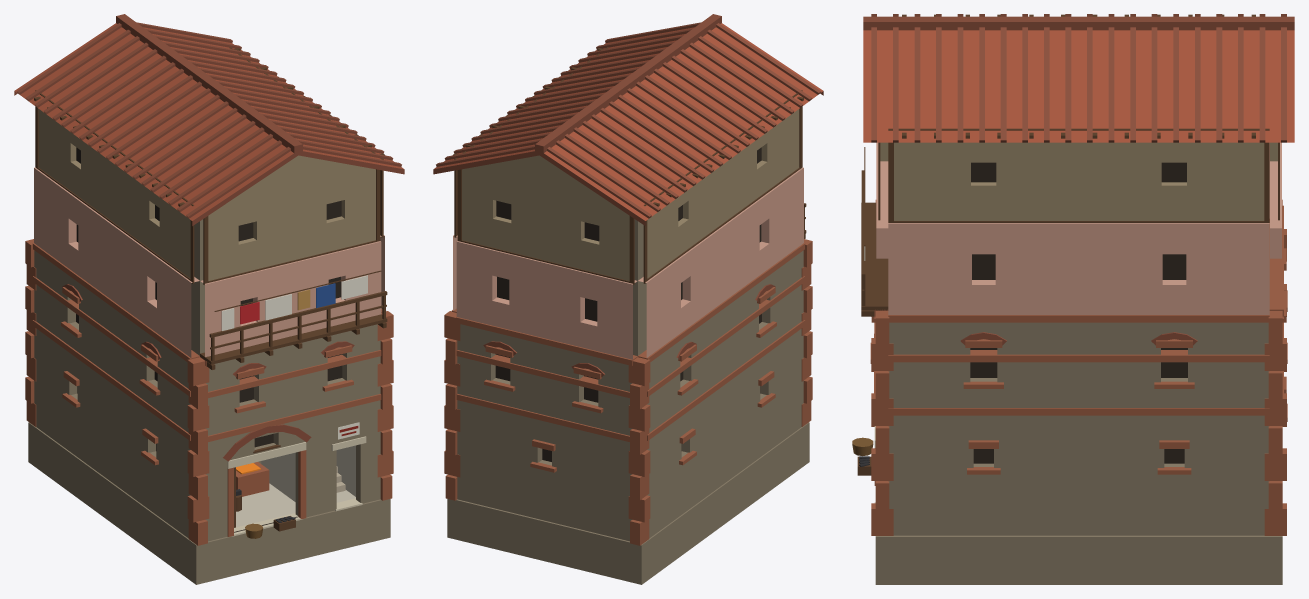
Rendered from rome_insula_l.glb.
3 renders of one model, left to right at view 1: azimuth 30°, elevation 25°; view 2: azimuth 150°, elevation 25°; view 3: azimuth 270°, elevation 25°, orthographic. The views are drawn at different scales.
Visible parts, largest first — view 1: rome_insula_l; view 2: rome_insula_l; view 3: rome_insula_l.
Boxes of the visible parts, bbox=[...] form: rome_insula_l: bbox=[14, 14, 404, 584]; rome_insula_l: bbox=[433, 14, 823, 584]; rome_insula_l: bbox=[852, 14, 1294, 584].
Size of the model in its own units: 8.87 by 16.62 by 13.11.
